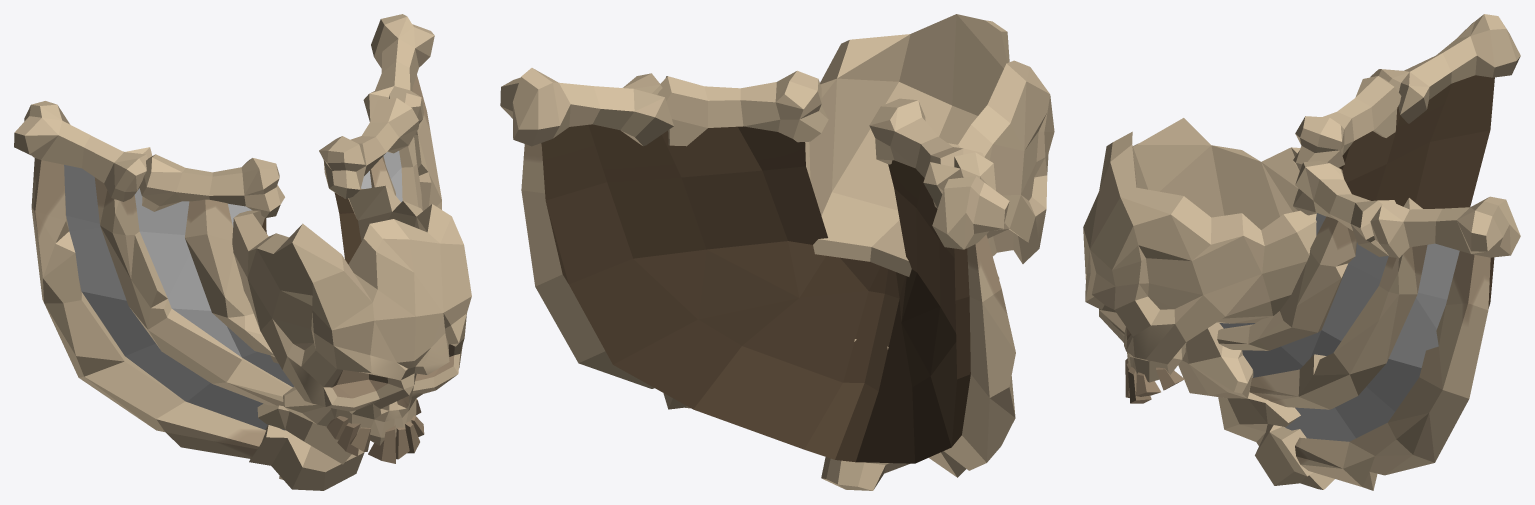
File: SM_Veh_Ship_L_Figurehead_04.fbx
3 views of the same model, side by side, from view 1: azimuth 30°, elevation 25°; view 2: azimuth 150°, elevation 25°; view 3: azimuth 270°, elevation 25° (orthographic). The views are drawn at different scales.
Visible parts, largest first — view 1: SM_Veh_Ship_L_Figurehead_04; view 2: SM_Veh_Ship_L_Figurehead_04; view 3: SM_Veh_Ship_L_Figurehead_04.
Part boxes in pixels (bbox=[...]): SM_Veh_Ship_L_Figurehead_04: bbox=[14, 14, 471, 490]; SM_Veh_Ship_L_Figurehead_04: bbox=[500, 14, 1054, 490]; SM_Veh_Ship_L_Figurehead_04: bbox=[1083, 14, 1520, 490].
Bounding box in the file's own units: 779 × 646 × 679.
